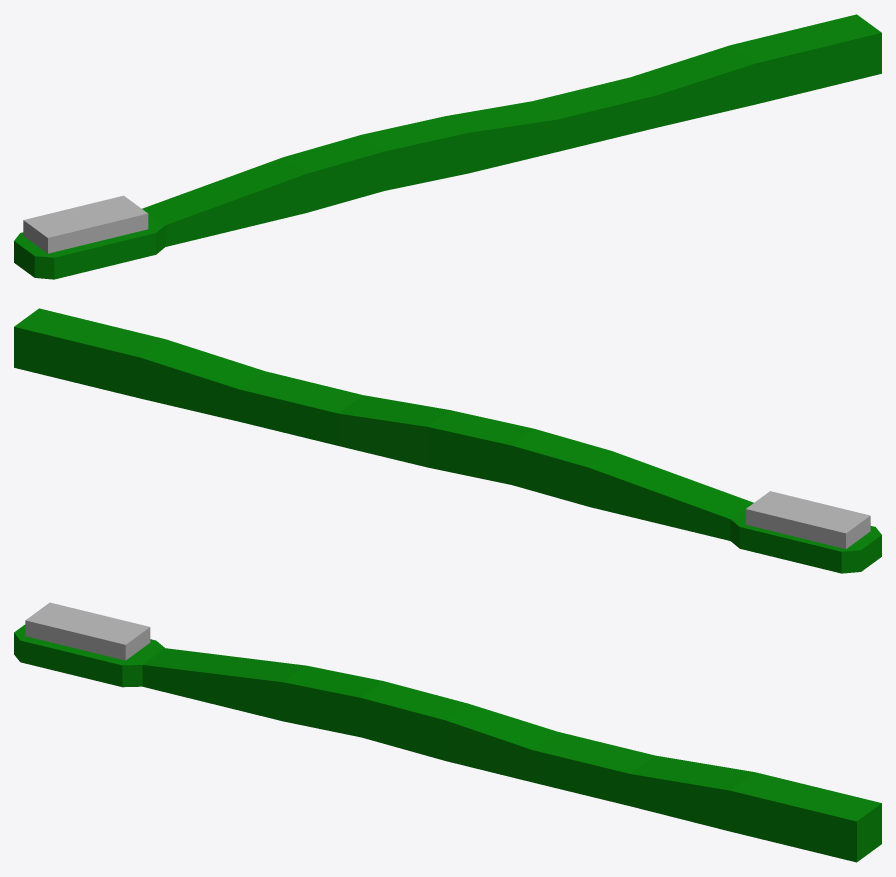
The model's file is toothbrush.fbx.
3 renders of one model, top to bottom at view 1: azimuth 30°, elevation 25°; view 2: azimuth 150°, elevation 25°; view 3: azimuth 330°, elevation 25°, orthographic.
Visible parts, largest first — view 1: Cube, Cube.001; view 2: Cube, Cube.001; view 3: Cube, Cube.001.
Part boxes in pixels (x1,y1,x2,y2): Cube: (14,14,881,279); Cube.001: (23,195,148,253); Cube: (14,308,881,573); Cube.001: (745,491,870,548); Cube: (14,624,881,862); Cube.001: (25,602,150,660).
Size of the model in its own units: 1954 by 93.97 by 136.
